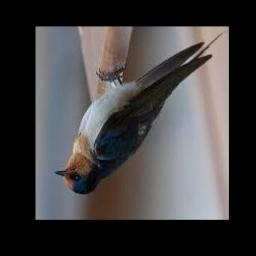Swallow: (54, 30, 226, 196)
